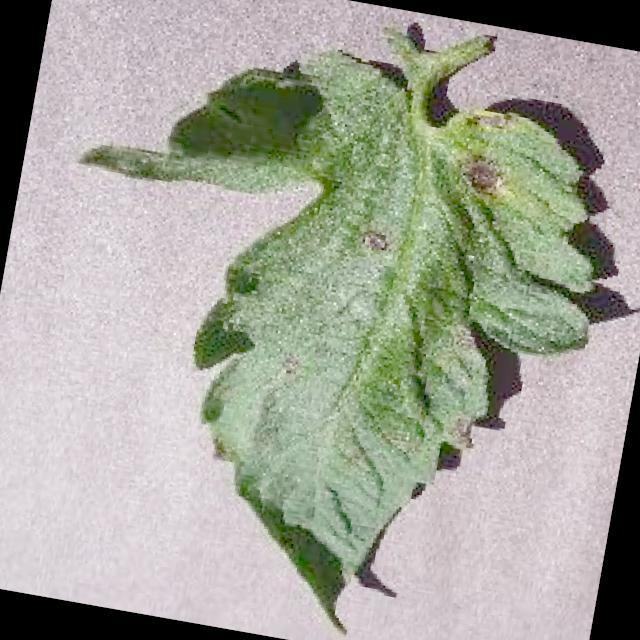Tomato Early blight leaf: (15, 0, 640, 614)
